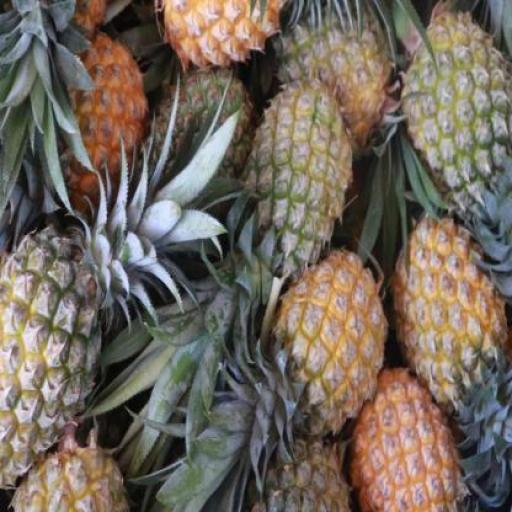------------------------------: (1, 232, 109, 490), (401, 9, 512, 206), (240, 90, 346, 285), (276, 4, 394, 147)
Pineapple - v8 v1: (390, 217, 499, 412), (276, 251, 382, 435), (347, 366, 462, 510)
